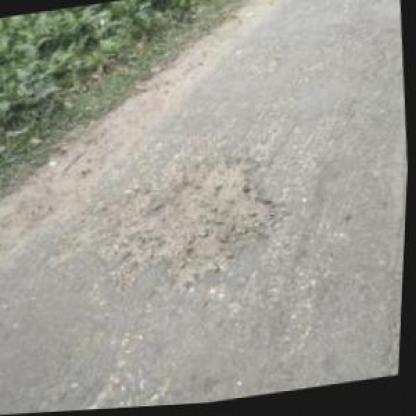pothole: (127, 150, 288, 291)
